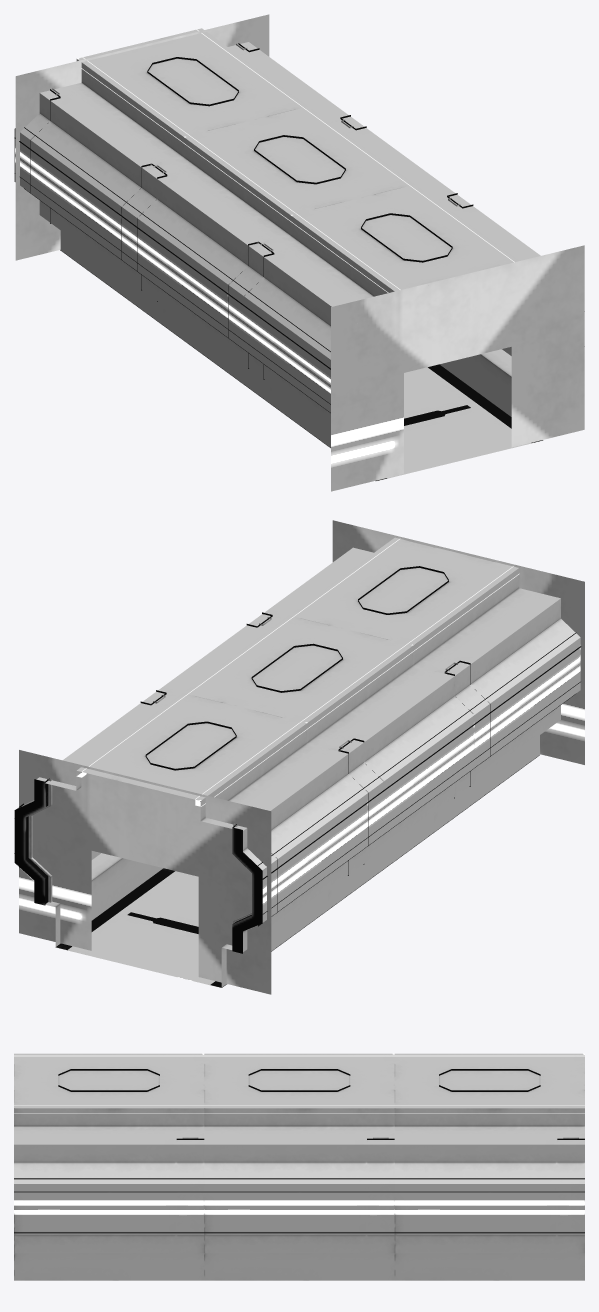
File: Conexiones03.fbx
3 renders of one model, top to bottom at view 1: azimuth 30°, elevation 25°; view 2: azimuth 150°, elevation 25°; view 3: azimuth 270°, elevation 25°, orthographic. The views are drawn at different scales.
Parts seen in each view (by area): view 1: Conexiones03; view 2: Conexiones03; view 3: Conexiones03.
Boxes of the visible parts, bbox=[...] form: Conexiones03: bbox=[14, 14, 584, 491]; Conexiones03: bbox=[14, 520, 584, 994]; Conexiones03: bbox=[14, 1053, 584, 1280].
Size of the model in its own units: 604 by 422 by 1320.
